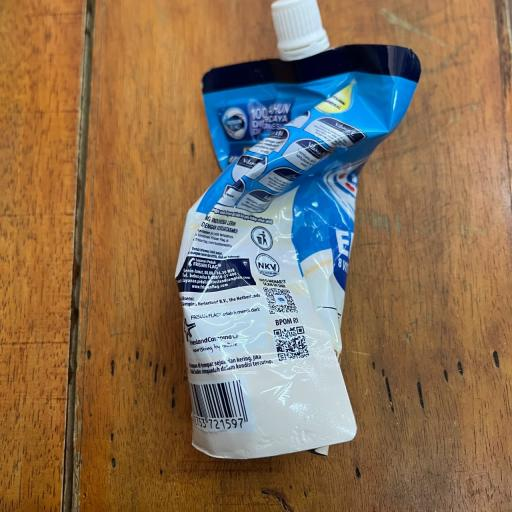Frisian Flag Kental Manis: (179, 5, 417, 461)
